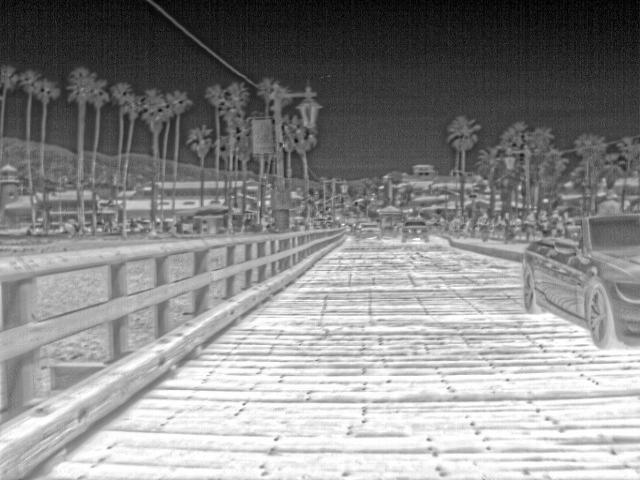car: (521, 211, 640, 352), (401, 214, 431, 242), (355, 218, 384, 239)
person: (522, 209, 539, 241), (477, 212, 493, 243), (503, 213, 517, 244), (537, 207, 550, 236), (551, 208, 563, 237), (561, 209, 576, 227)
